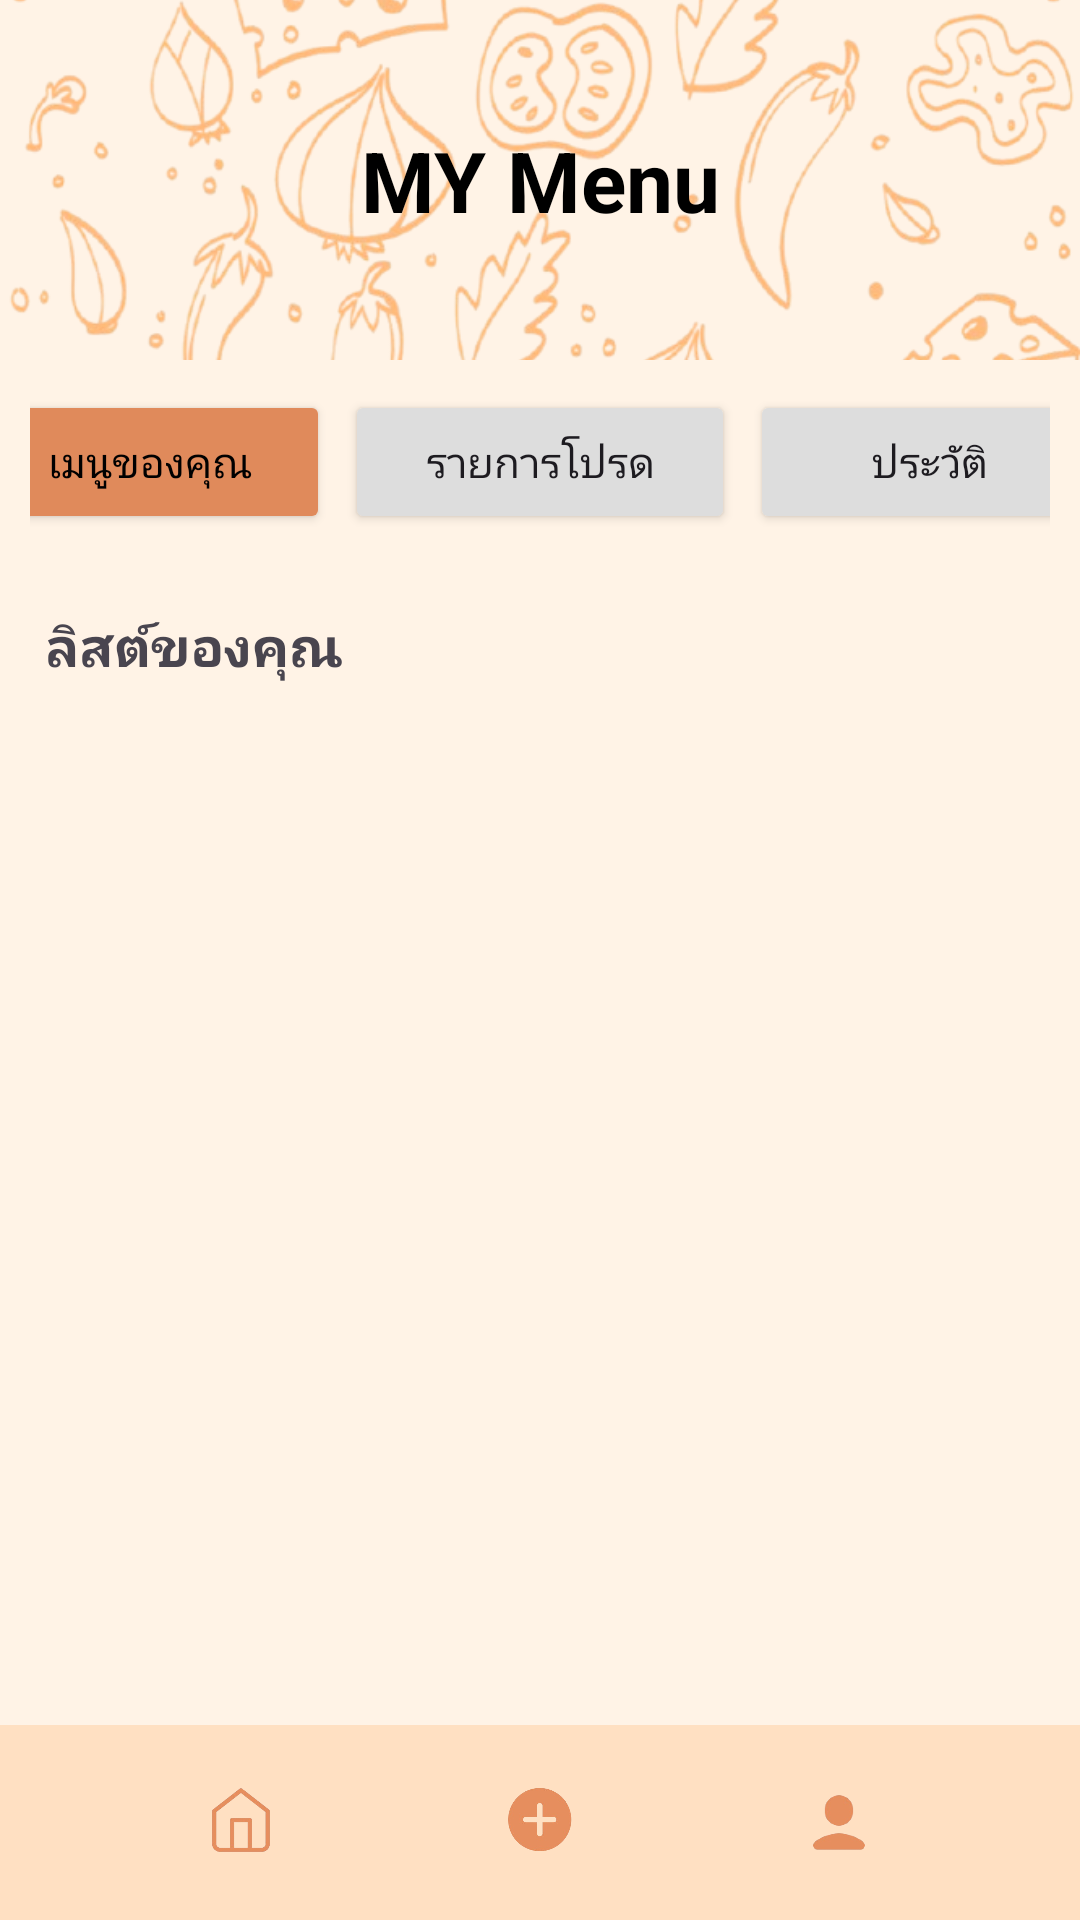

Icon click points for this 1080px×1920px phone screenshot, format [x,y]:
add: [539,1819]
home: [241,1820]
prof: [839,1822]
